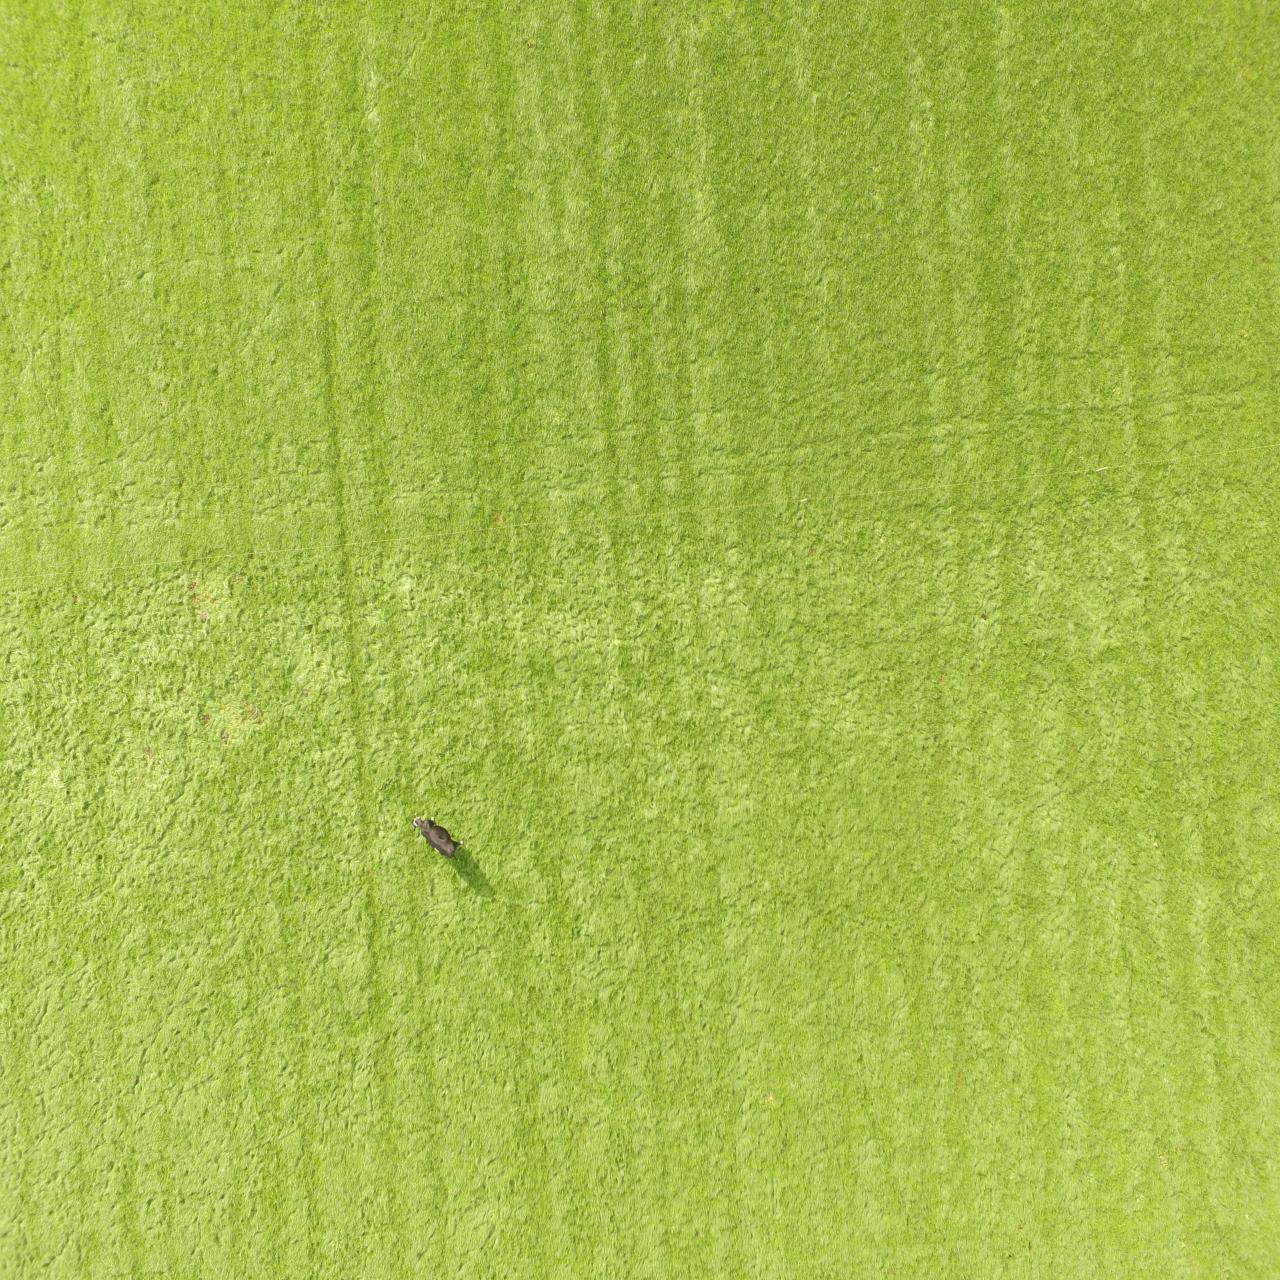cow: (408, 810, 465, 865)
